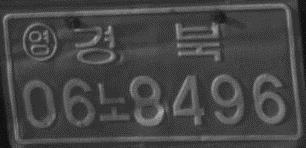0: (21, 78, 58, 128)
4: (170, 72, 206, 127)
6: (252, 73, 287, 125), (62, 76, 95, 130)
8: (128, 74, 166, 127)
9: (210, 74, 247, 125)
경북_D: (70, 19, 223, 66)
노: (97, 79, 131, 124)
영: (22, 21, 59, 63)
